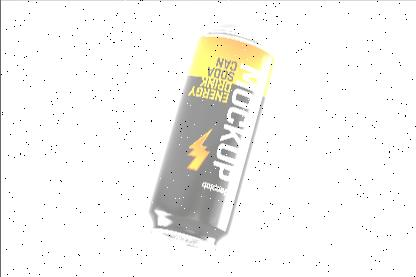Can: (148, 29, 274, 250)
